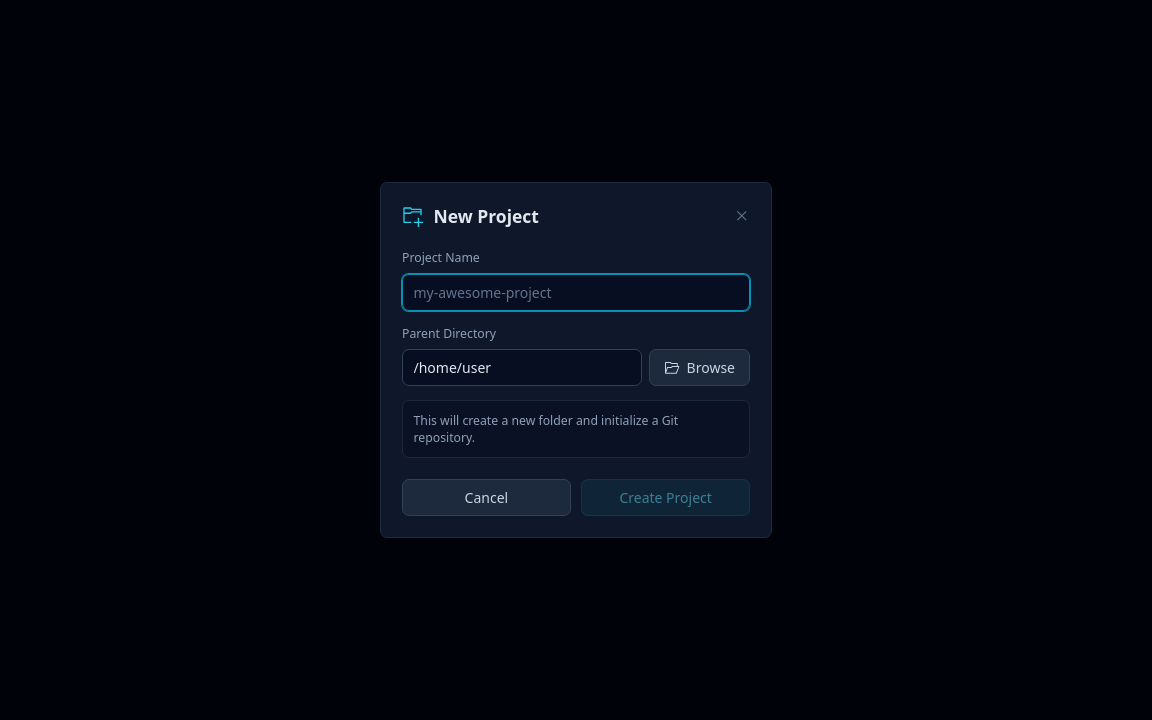
Scenario: NewProjectDialog › handles directory selection
The width and height of the screenshot is (1152, 720).
Step 1. Click the button "Browse" → [699, 368], box [649,349,750,386]
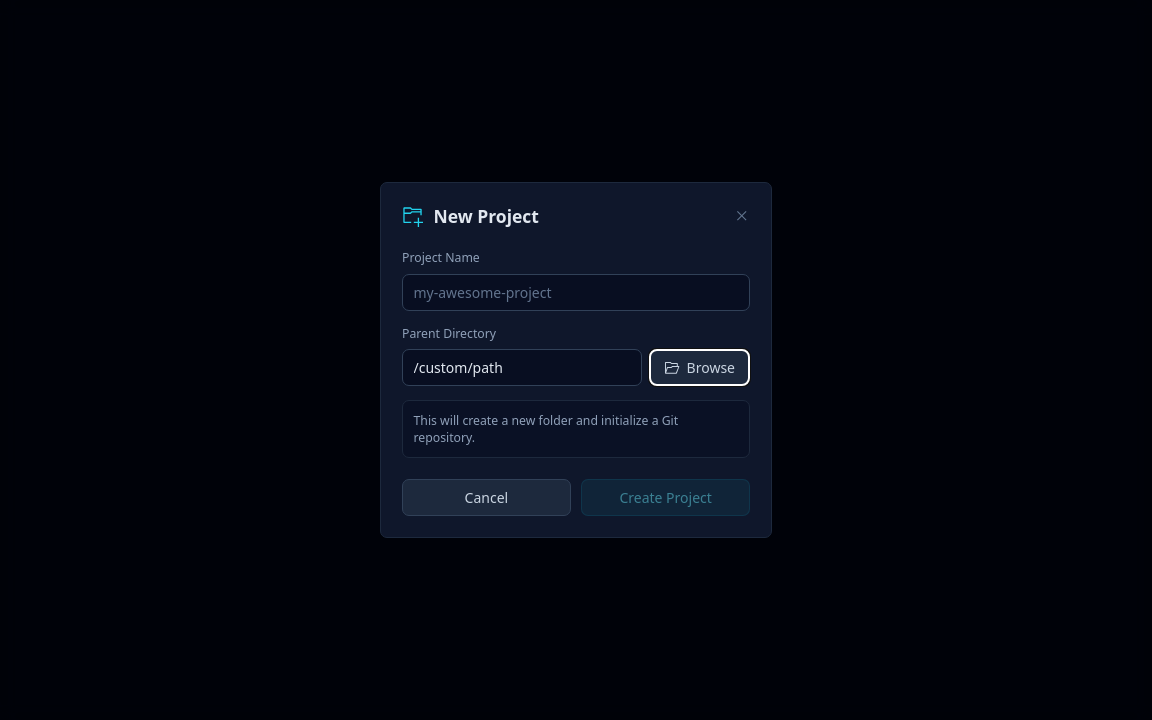
Expected: the field showing "/custom/path" is shown, [402,349,642,386]
